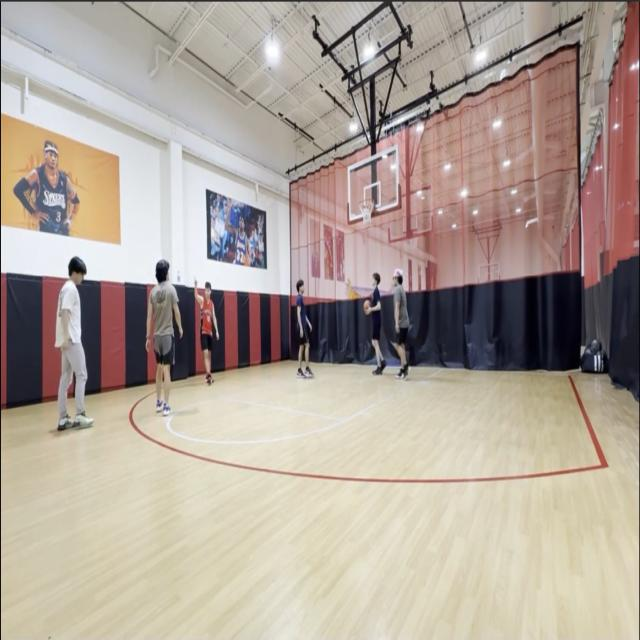Basketball: (364, 300, 370, 309)
Basketball Rim: (359, 199, 374, 225)
